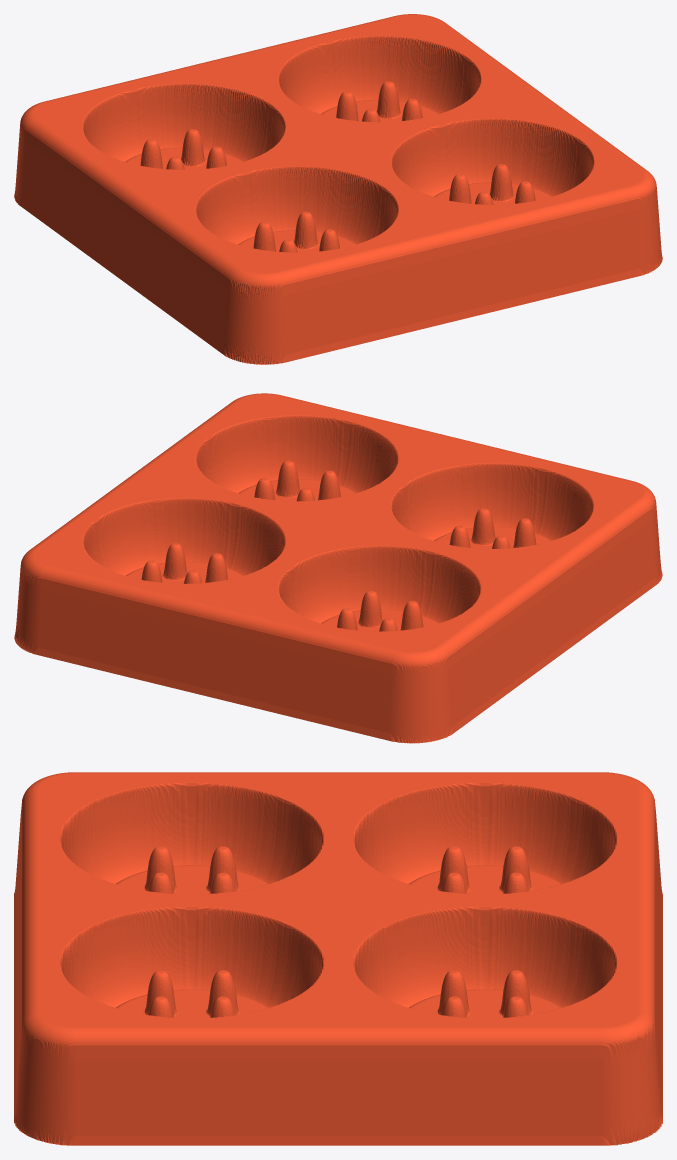
The model's file is mold.glb.
The picture shows the model from 3 angles, top to bottom: view 1: azimuth 30°, elevation 25°; view 2: azimuth 150°, elevation 25°; view 3: azimuth 270°, elevation 25°; orthographic projection. The views are drawn at different scales.
Visible parts, largest first — view 1: geometry_0; view 2: geometry_0; view 3: geometry_0.
Boxes of the visible parts, x1=… form: geometry_0: x1=14, y1=14, x2=662, y2=364; geometry_0: x1=14, y1=393, x2=662, y2=743; geometry_0: x1=14, y1=772, x2=662, y2=1145.
Size of the model in its own units: 0.0952 by 0.0175 by 0.0952.
